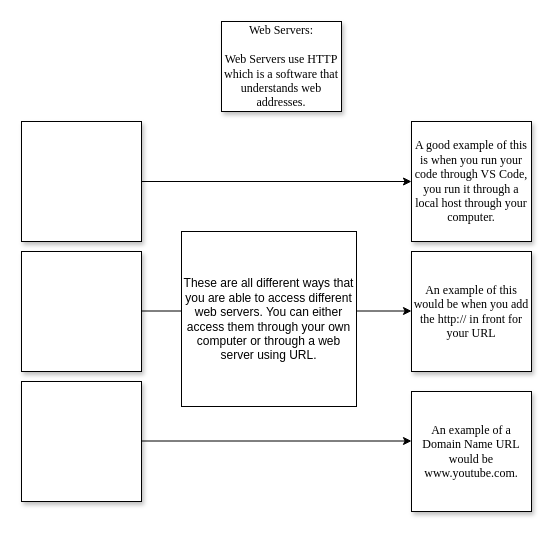
Image size: 555x536. Some labels were removed from this diagram. The centre of each missing label's shape, as x and y in pixels:
"Domain Name URL: This is what we typically use when looking for a website." belongs at point (82, 442).
"File URL: This access the webpage using a web address." belongs at point (82, 312).
"Local Host: This is when the web server is hosted on your computer." belongs at point (82, 182).
